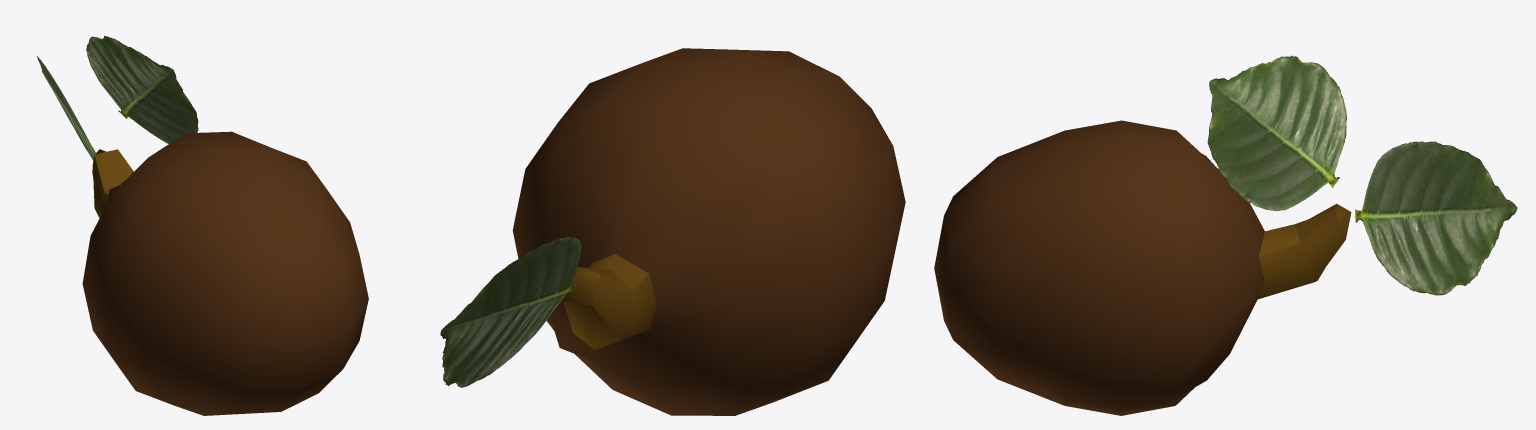
The model's file is fbx_sapling_seed.fbx.
3 views of the same model, side by side, from view 1: azimuth 30°, elevation 25°; view 2: azimuth 150°, elevation 25°; view 3: azimuth 270°, elevation 25° (orthographic). The views are drawn at different scales.
Visible parts, largest first — view 1: pCube2; view 2: pCube2; view 3: pCube2.
Boxes of the visible parts, x1,y1,x2,y2 form: pCube2: (37, 36, 368, 415); pCube2: (440, 48, 905, 415); pCube2: (934, 55, 1517, 415).
Size of the model in its own units: 0.1803 by 0.2501 by 0.3635.
